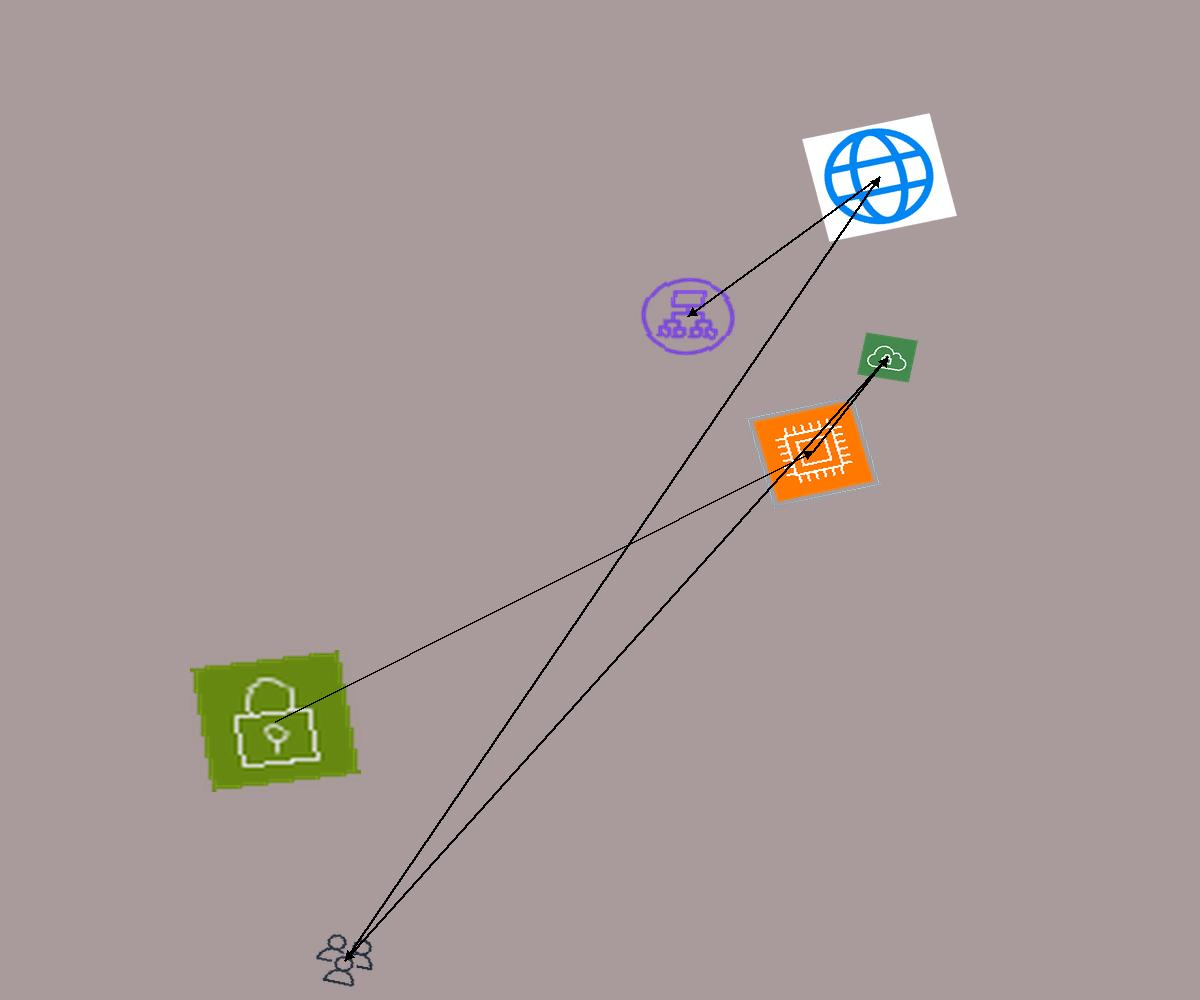AWS-Category_Compute: (746, 395, 881, 508)
AWS-Private_vpc: (857, 332, 918, 383)
AWS-Public-subnet: (190, 650, 361, 792)
AWS-Res_Elastic-Load-Balancing_Application-Load-Balancer: (633, 271, 743, 362)
AWS-Res_Users: (306, 928, 384, 993)
Azure_http: (802, 113, 957, 242)
